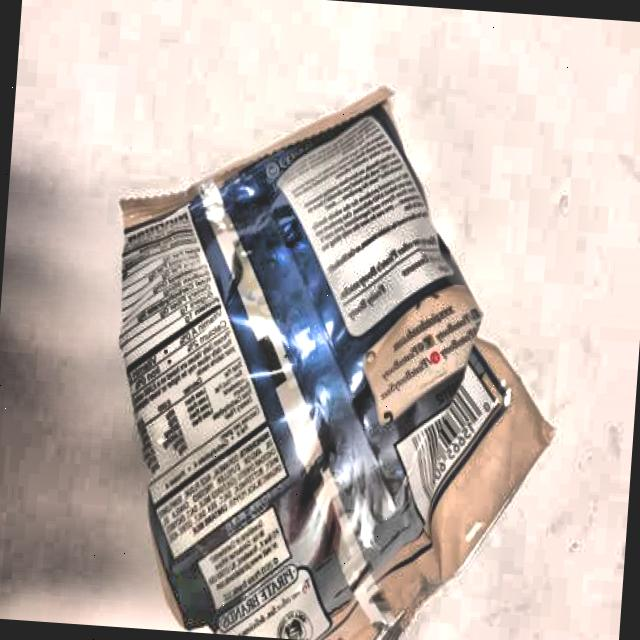plastic: (95, 71, 572, 640)
